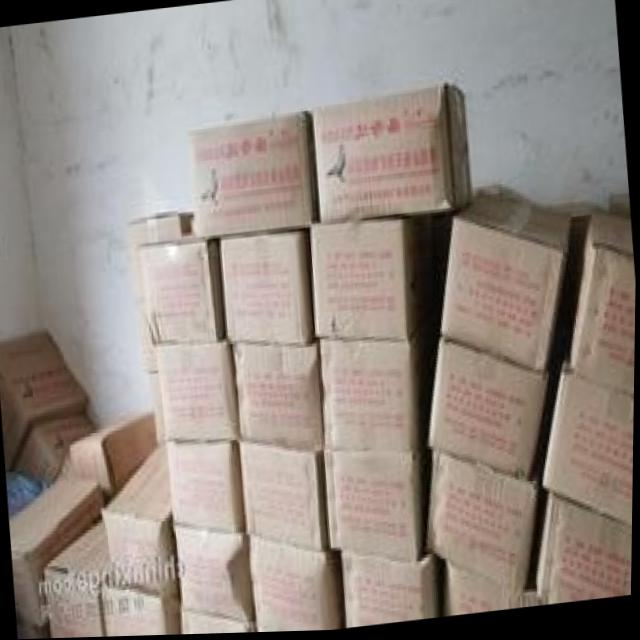box: (442, 191, 573, 377), (312, 87, 470, 224), (428, 341, 547, 483), (189, 110, 317, 242), (426, 454, 540, 601), (318, 305, 431, 452), (312, 213, 436, 341), (544, 364, 635, 526), (12, 472, 105, 625), (323, 432, 428, 566), (567, 207, 636, 397), (0, 327, 87, 469), (103, 437, 178, 598), (219, 229, 314, 345), (536, 495, 634, 606), (131, 211, 196, 373), (230, 338, 321, 447), (237, 439, 324, 552), (247, 531, 343, 633), (138, 242, 226, 349), (341, 548, 446, 627), (71, 407, 156, 503), (156, 344, 237, 444), (176, 525, 255, 624), (43, 521, 109, 639), (167, 439, 246, 535), (13, 411, 95, 486), (99, 567, 182, 637), (445, 561, 535, 616), (551, 202, 591, 259), (181, 612, 252, 636), (151, 372, 164, 444), (609, 193, 628, 217), (254, 621, 275, 634)
